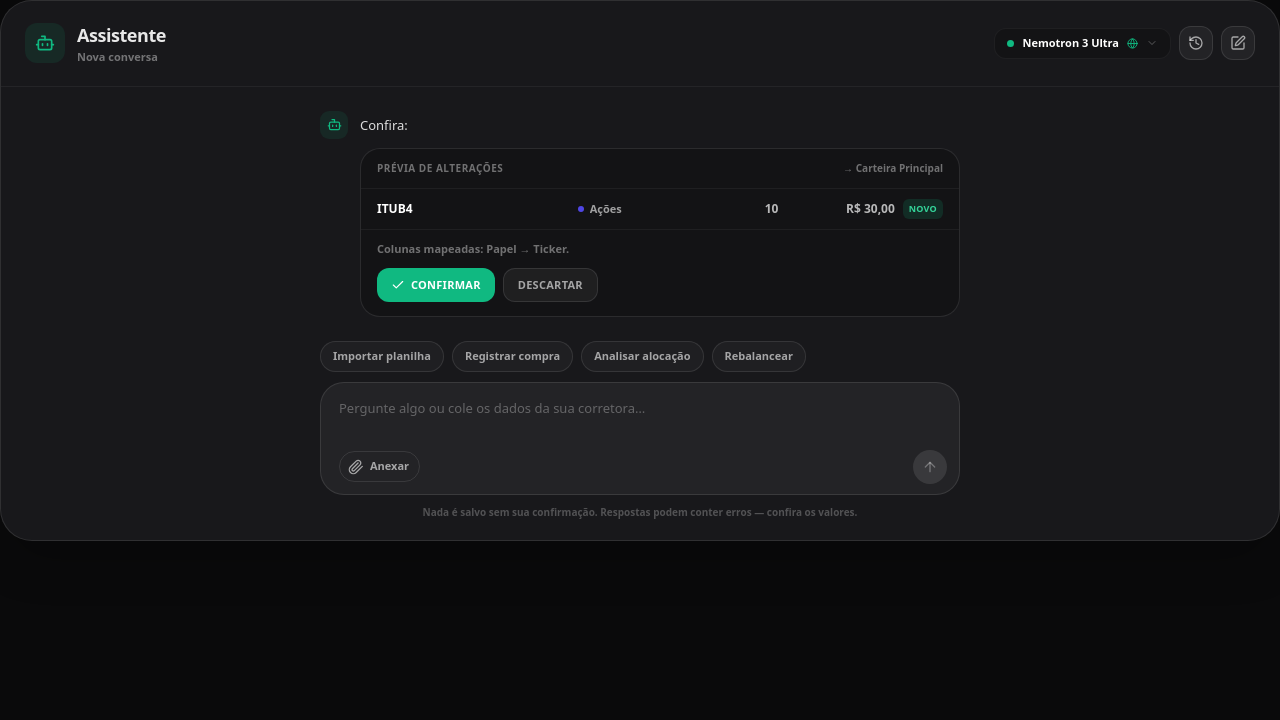
ChatPanel › shows a pending proposal and saves it on confirm
This screenshot has width=1280, height=720.
Check: the text "ITUB4" is shown, box [377,200,413,217]
Check: the text "novo" is shown, box [903,199,943,219]
Click the button "Confirmar" at (436, 285), box [377,268,495,302]
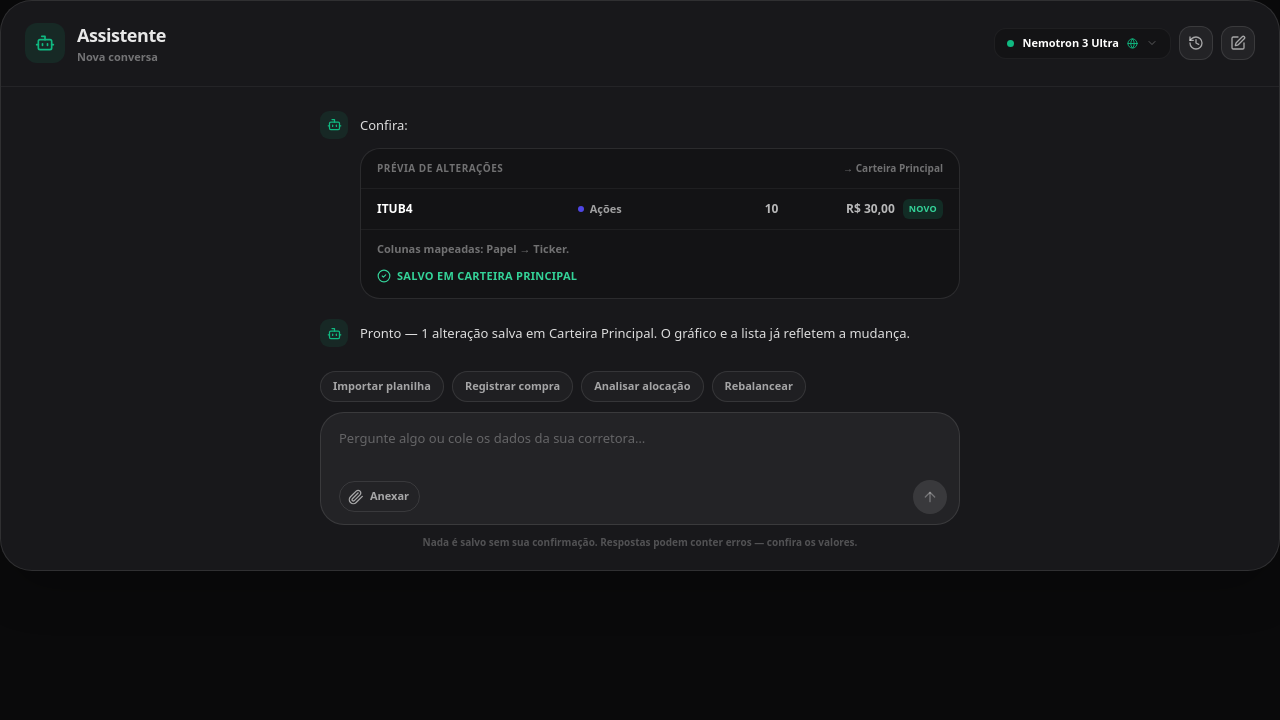
Check: the text "Salvo em Carteira Principal" is shown, box [377,268,577,283]
Check: the button "Confirmar" is gone
